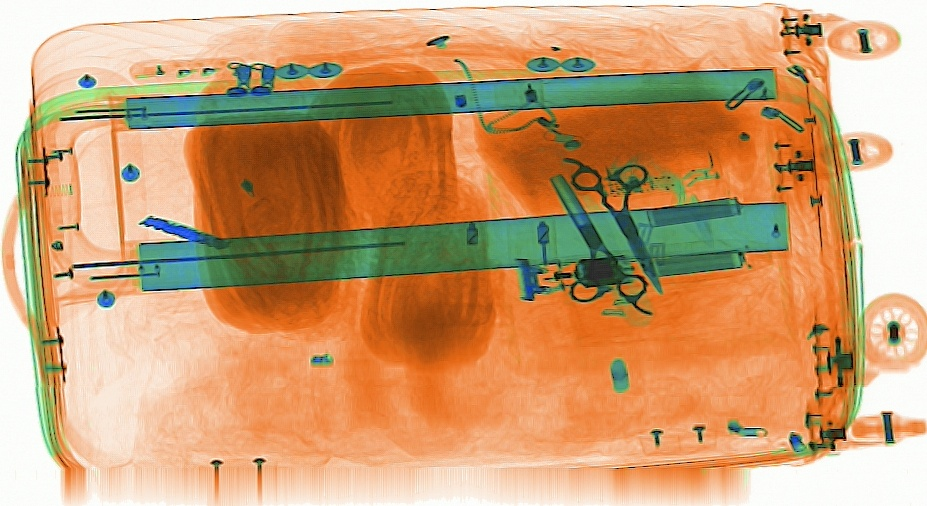scissors: (548, 170, 653, 316), (560, 155, 663, 296)
